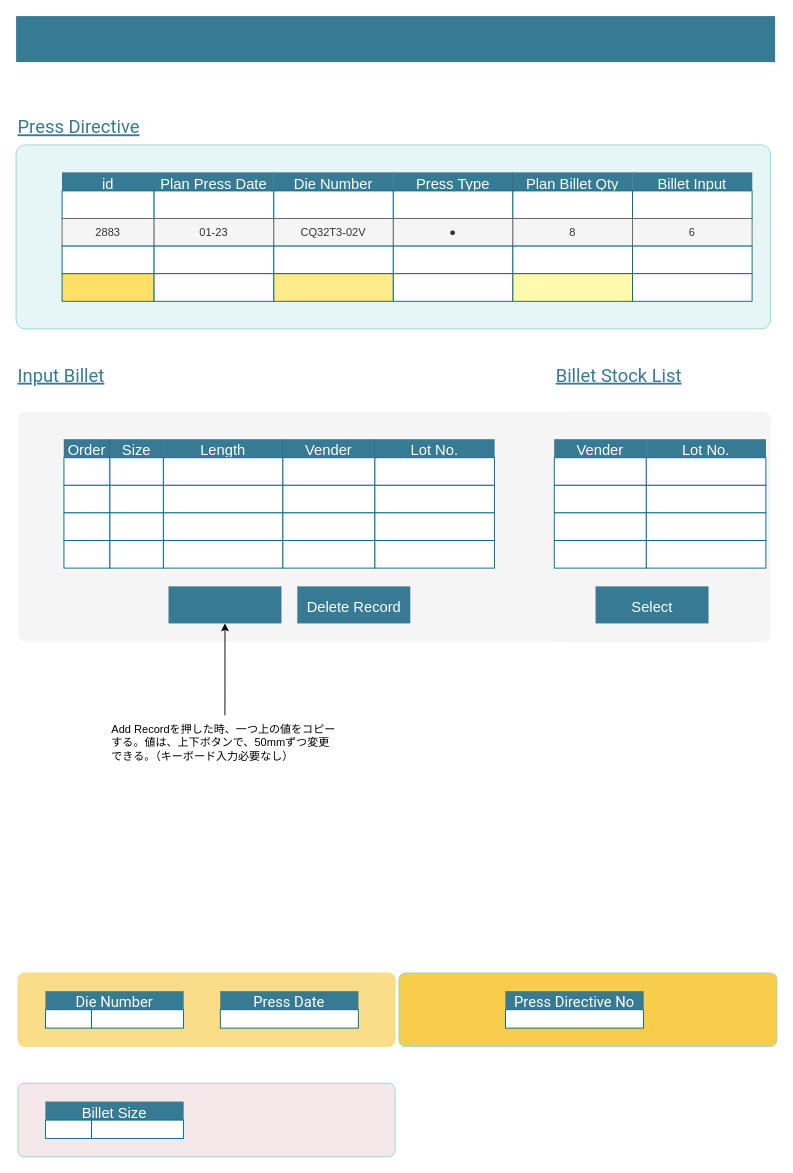
Some shapes in this 793 by 1173 pixel diagram are drawn without their labels. Here are the shapes that lost their labels. From the top down, the box of each, then its label:
(16, 16, 775, 62): Billet Charge
(168, 586, 281, 623): Add Record
